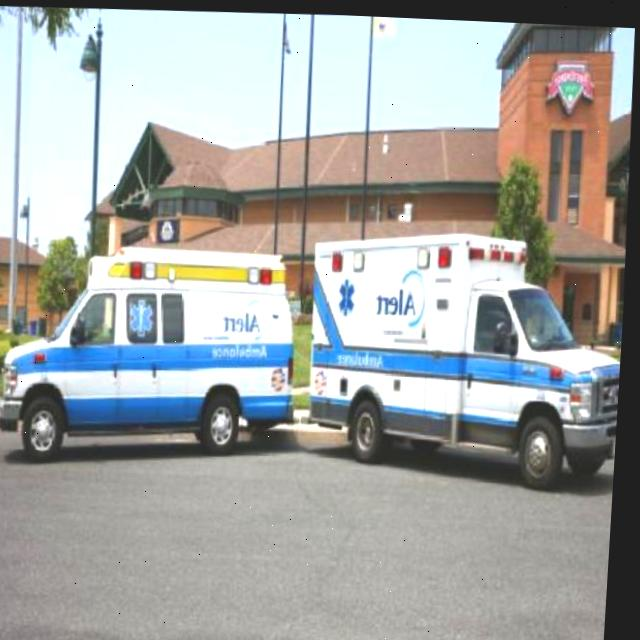emergency: (305, 218, 630, 488), (0, 237, 308, 468)
